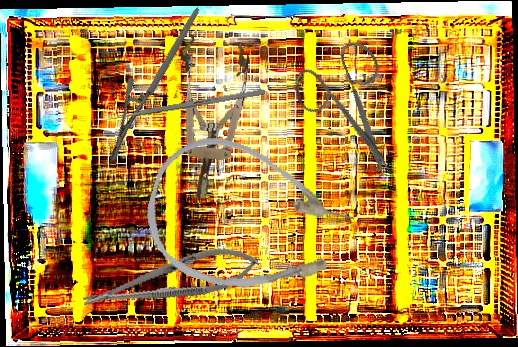Cannula: (131, 123, 366, 318)
Iris Scissors: (274, 26, 436, 181)
Needle Holder: (72, 7, 238, 163), (78, 237, 263, 323)
Pusher: (98, 88, 266, 124)
Speculum: (166, 34, 251, 202)
